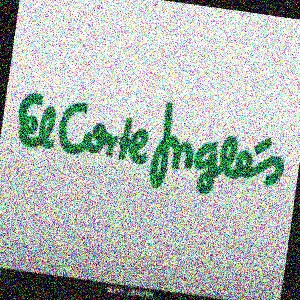corte_ingles: (289, 39, 297, 116)
